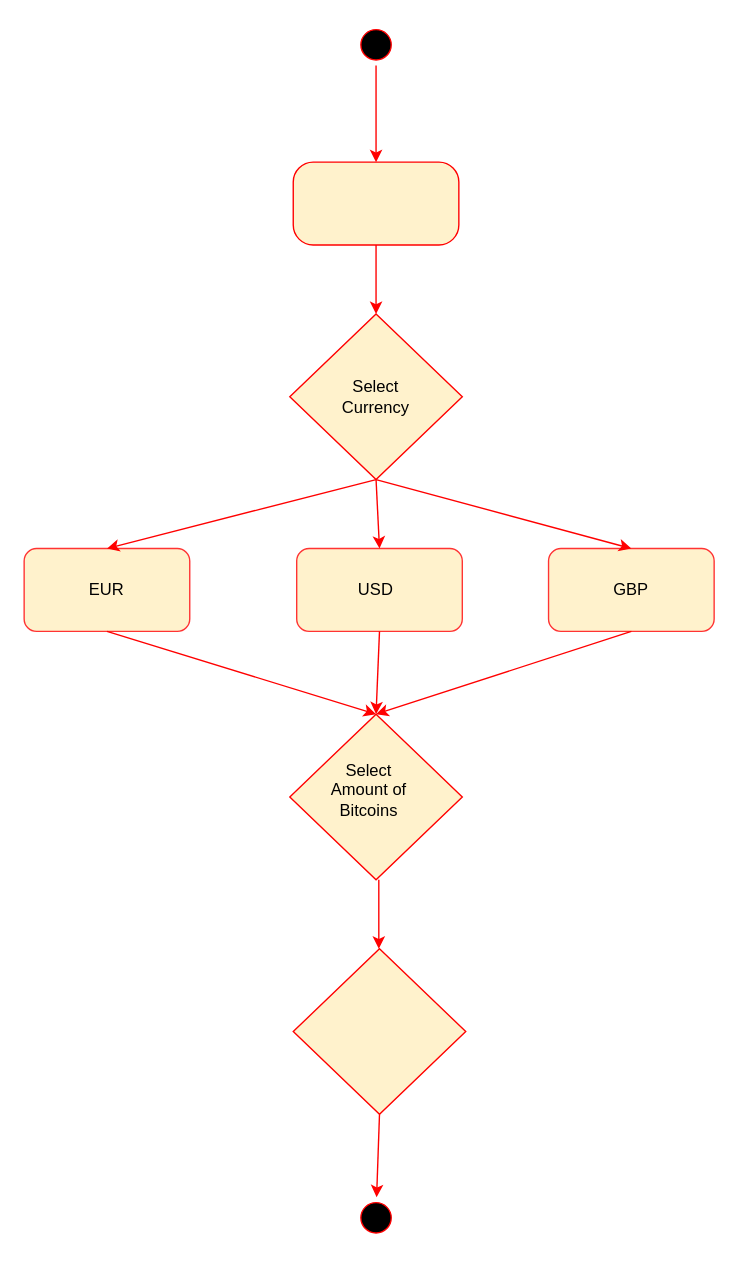
Some shapes in this 738 by 1263 pixel diagram are drawn without their labels. Here are the shapes that lost their labels. From the top down, the centre of each, then its label:
At pixel 375 203: "Open Bitcoin Calculator".
At pixel 379 1030: "Get rates".
